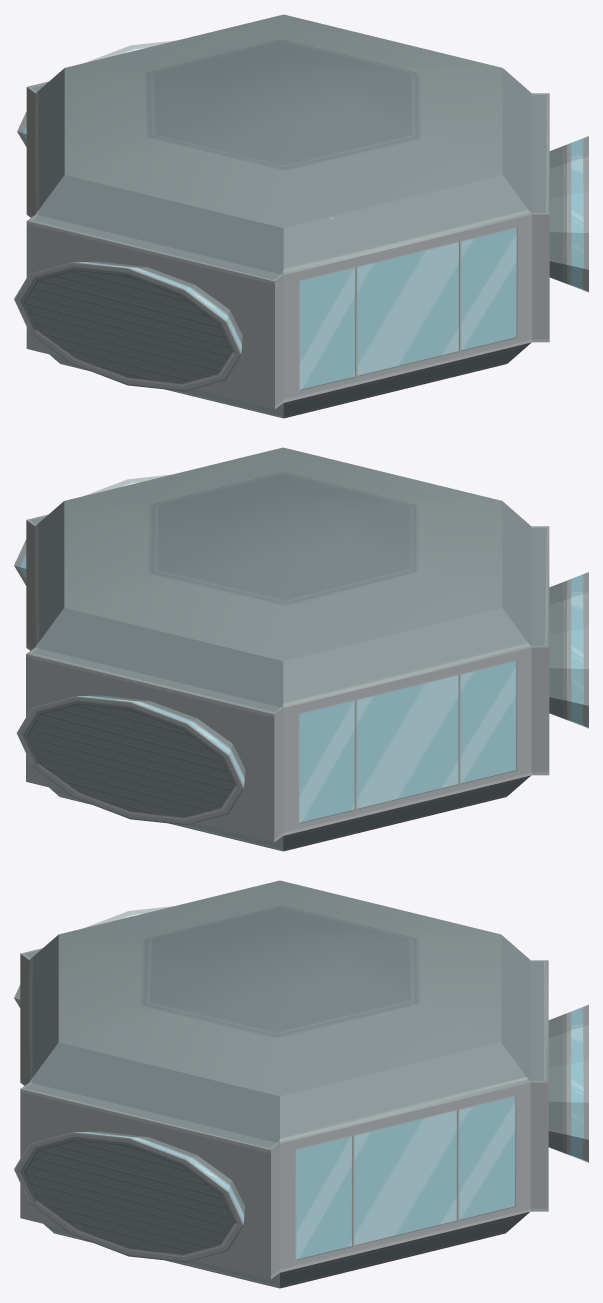
Rendered from SpaceStationConceptWithUVs.fbx.
3 renders of one model, top to bottom at view 1: azimuth 30°, elevation 25°; view 2: azimuth 150°, elevation 25°; view 3: azimuth 270°, elevation 25°, orthographic.
Visible parts, largest first — view 1: pSphere3; view 2: pSphere3; view 3: pSphere3.
Part boxes in pixels (box(x1,y1,x2,y2)): pSphere3: box(14, 14, 588, 418); pSphere3: box(14, 447, 588, 851); pSphere3: box(14, 880, 588, 1288).
Bounding box in the file's own units: 3.39 × 1.39 × 2.9.
